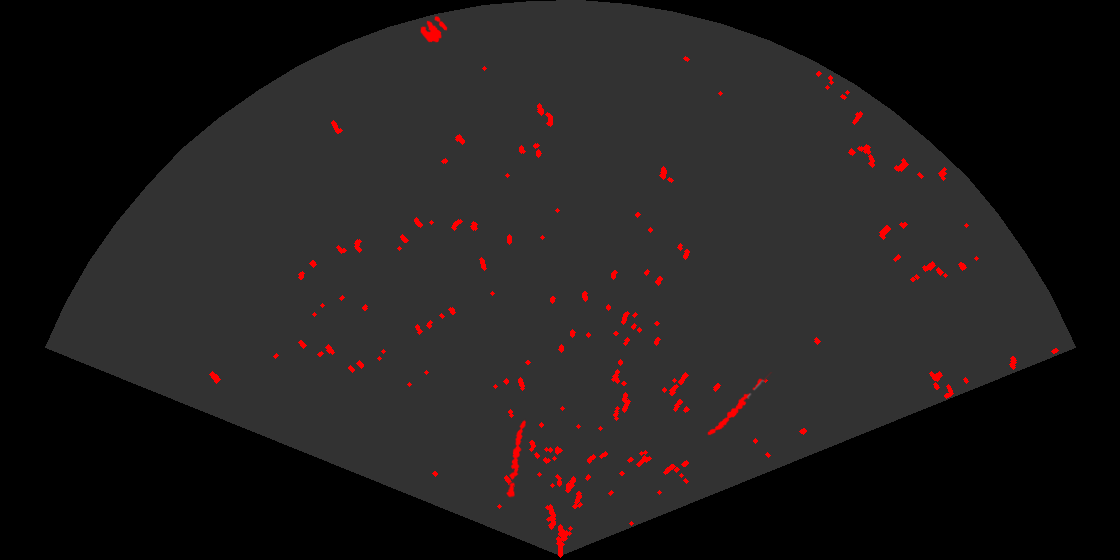ball: (419, 14, 449, 44)
chain: (706, 372, 774, 437), (505, 418, 528, 498)
